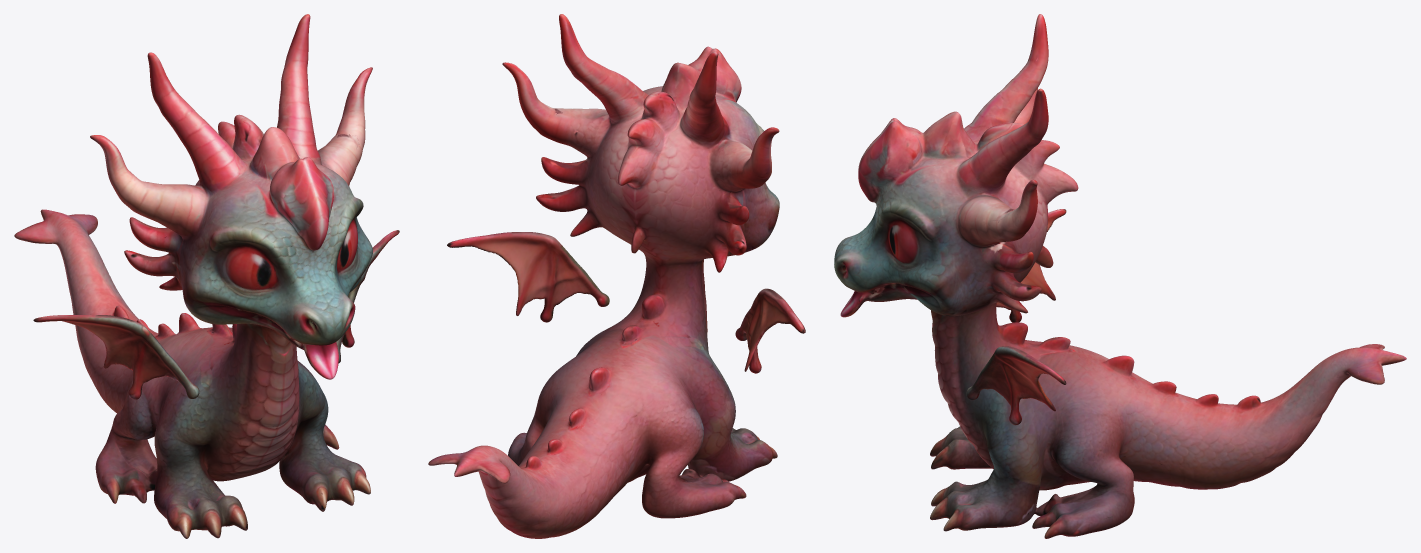
Rendered from uploads_files_5742088_The_object_resembles__1228234205_texture.glb.
3 renders of one model, left to right at view 1: azimuth 30°, elevation 25°; view 2: azimuth 150°, elevation 25°; view 3: azimuth 270°, elevation 25°, orthographic. The views are drawn at different scales.
Size of the model in its own units: 1.45 by 1.7 by 2.02.
Materials: 1 (1 with a texture image).
